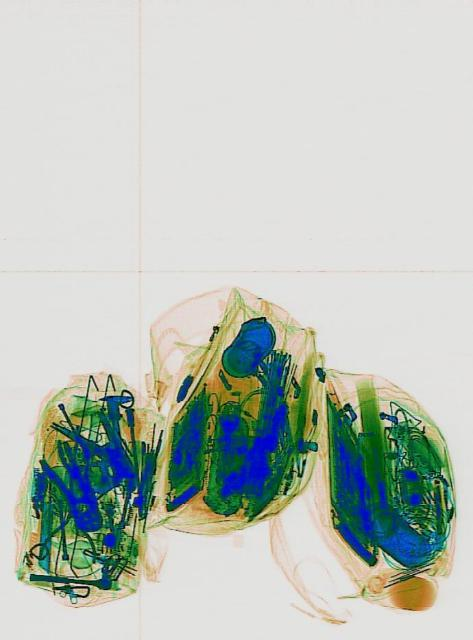Pliers: (35, 434, 108, 542), (53, 428, 106, 518)
